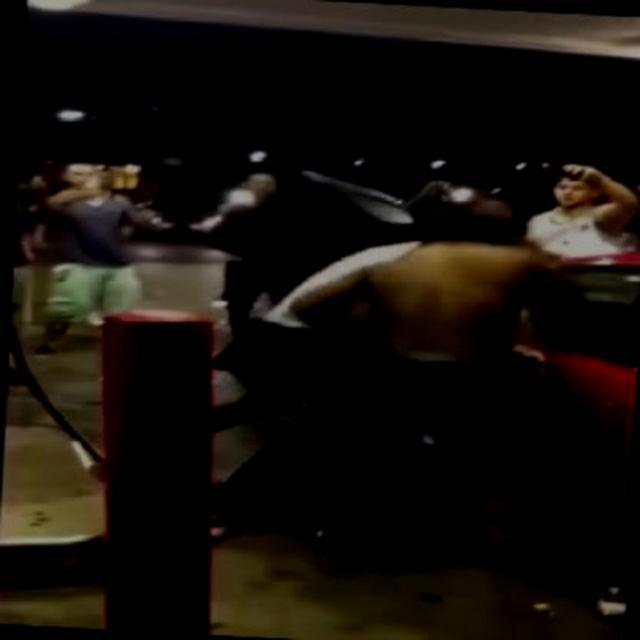fight: (198, 220, 558, 537)
